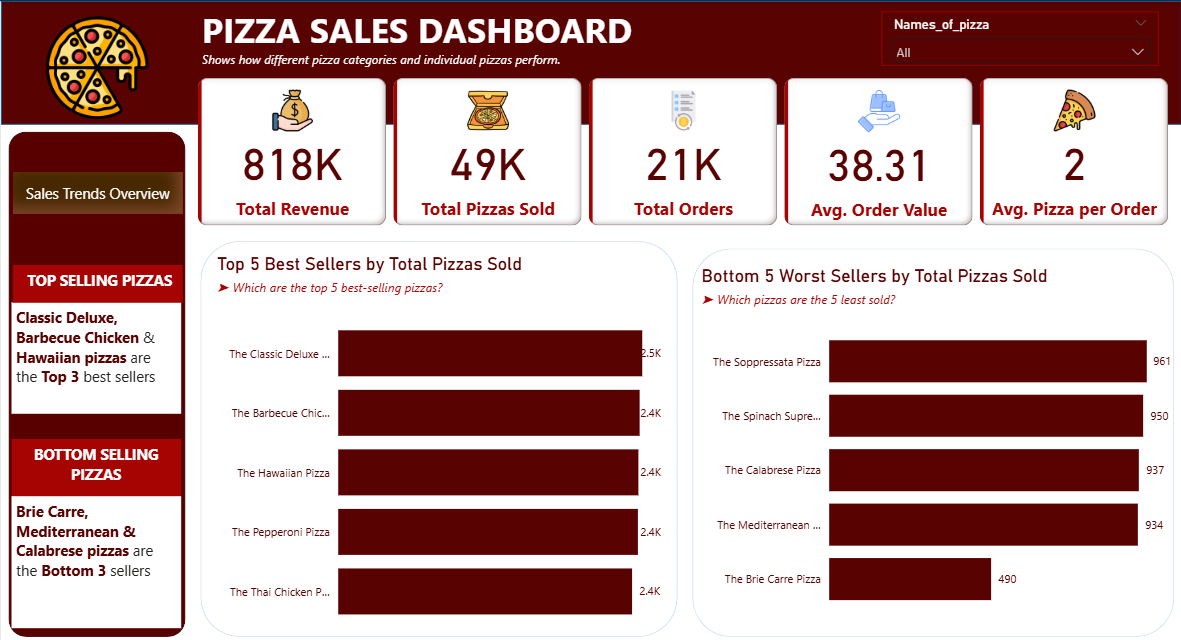

What the dashboard file says about the page in this screenshot:
{"tool":"powerbi","page":{"name":"Product Performance Breakdown","canvas":[1280,720],"ordinal":1},"visuals":[{"type":"shape","box":[0,0,1280.5,134.2],"z":0},{"type":"shape","box":[0,133.4,208.2,564.4],"z":1000},{"type":"cardVisual","fields":{"Data":["Sum(KPI's - TOTAL REVENUE.Column1)","Sum(KPI's - Total pizzas sold.Column1)","Sum(KPI's - Total orders.Column1)","Sum(KPI's - Average order value.Column1)","Sum(KPI's - Average pizza per order.Column1)"]},"box":[208.2,78.1,1065.4,170.8],"z":2000},{"type":"shape","box":[208.2,252.1,533.5,445.7],"z":3000},{"type":"shape","box":[741.7,260.2,538.4,437.5],"z":4000},{"type":"textbox","box":[213.1,0,582.3,66.7],"z":5000},{"type":"image","box":[0,11.4,208.2,122],"z":6000},{"type":"textbox","box":[11.4,326.9,183.8,120.4],"z":7000},{"type":"textbox","box":[13,286.3,183.8,40.7],"z":8000},{"type":"textbox","box":[11.4,536.8,183.8,143.1],"z":9000},{"type":"textbox","box":[11.4,475,183.8,61.8],"z":10000},{"type":"textbox","box":[213.1,48.8,605.1,29.3],"z":11000},{"type":"clusteredBarChart","title":"Top 5 Best Sellers by Total Pizzas Sold","fields":{"Y":["Sum(Question 6 - Top 5.Column2)"],"Category":["Question 6 - Top 5.Name"]},"box":[229.3,273.3,491.2,424.5],"z":12000},{"type":"barChart","title":"Bottom 5 Worst Sellers by Total Pizzas Sold","fields":{"Y":["Sum(Question 7 - Bottom 5.total_order)"],"Category":["Question 7 - Bottom 5.name"]},"box":[754.7,286.3,518.9,393.6],"z":13000},{"type":"actionButton","title":"Product Performance Breakdown","box":[13,185.4,183.8,45.5],"z":13001},{"type":"slicer","fields":{"Values":["name.Names_of_pizza"]},"box":[954.8,11.4,300.9,58.6],"z":13002}]}

Visuals, with their boxes on the page's 1280x720 design canvas (x1, y1, x2, y2). These are canvas units, not pixel positions in the 1181x640 screenshot, which may show the page scaled, cropped or inside an application window:
shape: left=0, top=0, right=1280, bottom=134
shape: left=0, top=133, right=208, bottom=698
cardVisual - Sum(KPI's - TOTAL REVENUE.Column1) x Sum(KPI's - Total pizzas sold.Column1): left=208, top=78, right=1274, bottom=249
shape: left=208, top=252, right=742, bottom=698
shape: left=742, top=260, right=1280, bottom=698
textbox: left=213, top=0, right=795, bottom=67
image: left=0, top=11, right=208, bottom=133
textbox: left=11, top=327, right=195, bottom=447
textbox: left=13, top=286, right=197, bottom=327
textbox: left=11, top=537, right=195, bottom=680
textbox: left=11, top=475, right=195, bottom=537
textbox: left=213, top=49, right=818, bottom=78
"Top 5 Best Sellers by Total Pizzas Sold" clusteredBarChart: left=229, top=273, right=720, bottom=698
"Bottom 5 Worst Sellers by Total Pizzas Sold" barChart: left=755, top=286, right=1274, bottom=680
"Product Performance Breakdown" actionButton: left=13, top=185, right=197, bottom=231
slicer - name.Names_of_pizza: left=955, top=11, right=1256, bottom=70
